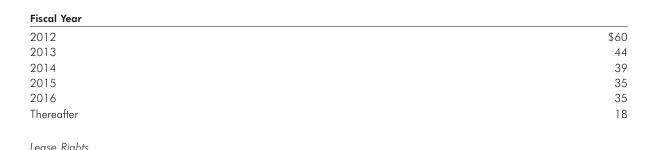table: (28, 28, 626, 119)
table column: (28, 28, 341, 119), (341, 28, 626, 119)
table row: (28, 58, 626, 74), (28, 28, 626, 43), (28, 43, 626, 58), (28, 74, 626, 89), (28, 89, 626, 104), (28, 104, 626, 119)
